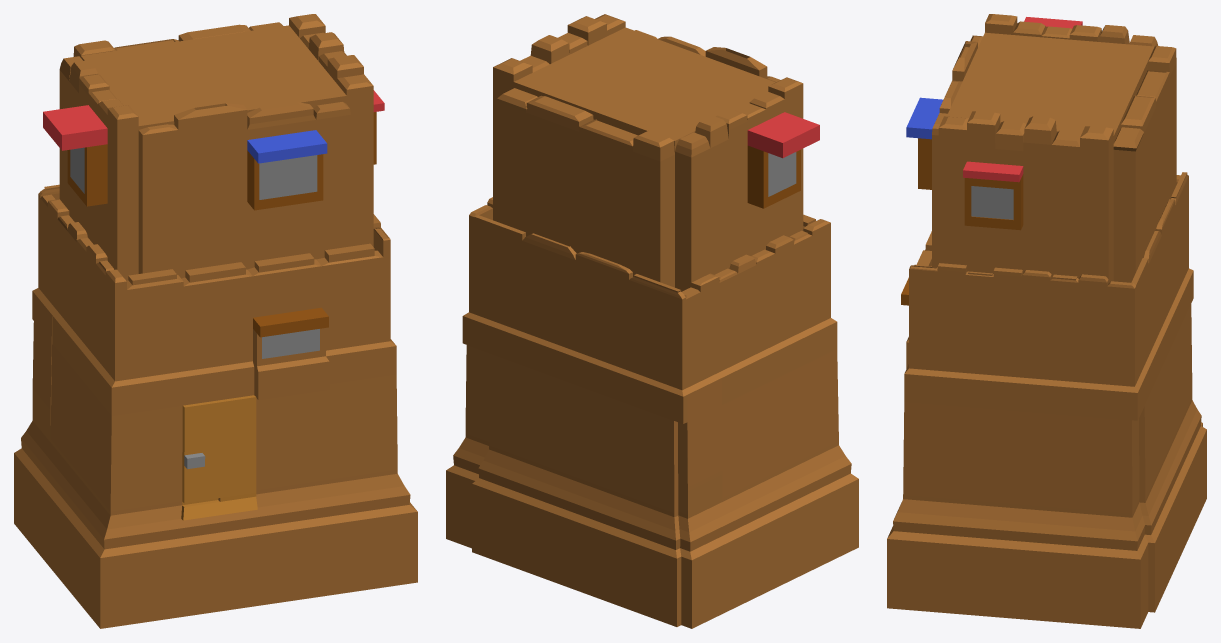
Rendered from temple4.fbx.
The picture shows the model from 3 angles, left to right: view 1: azimuth 30°, elevation 25°; view 2: azimuth 150°, elevation 25°; view 3: azimuth 270°, elevation 25°; orthographic projection. The views are drawn at different scales.
Parts seen in each view (by area): view 1: Cube.003; view 2: Cube.003; view 3: Cube.003.
Boxes of the visible parts, x1=… form: Cube.003: x1=14, y1=14, x2=417, y2=628; Cube.003: x1=446, y1=14, x2=858, y2=628; Cube.003: x1=887, y1=14, x2=1206, y2=628.
Size of the model in its own units: 1274 by 1820 by 1095.
